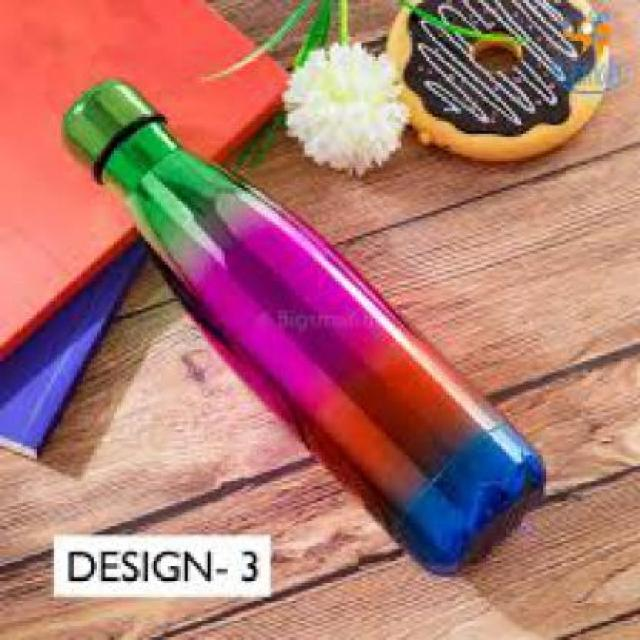Drinking: (59, 77, 578, 549)
